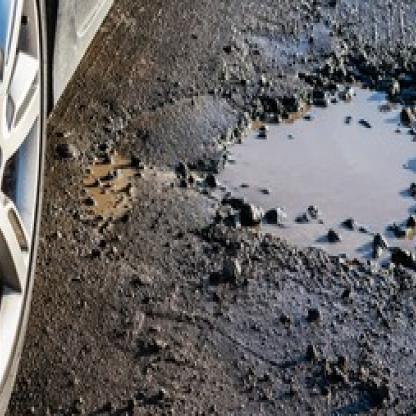pothole: (211, 53, 416, 268)
